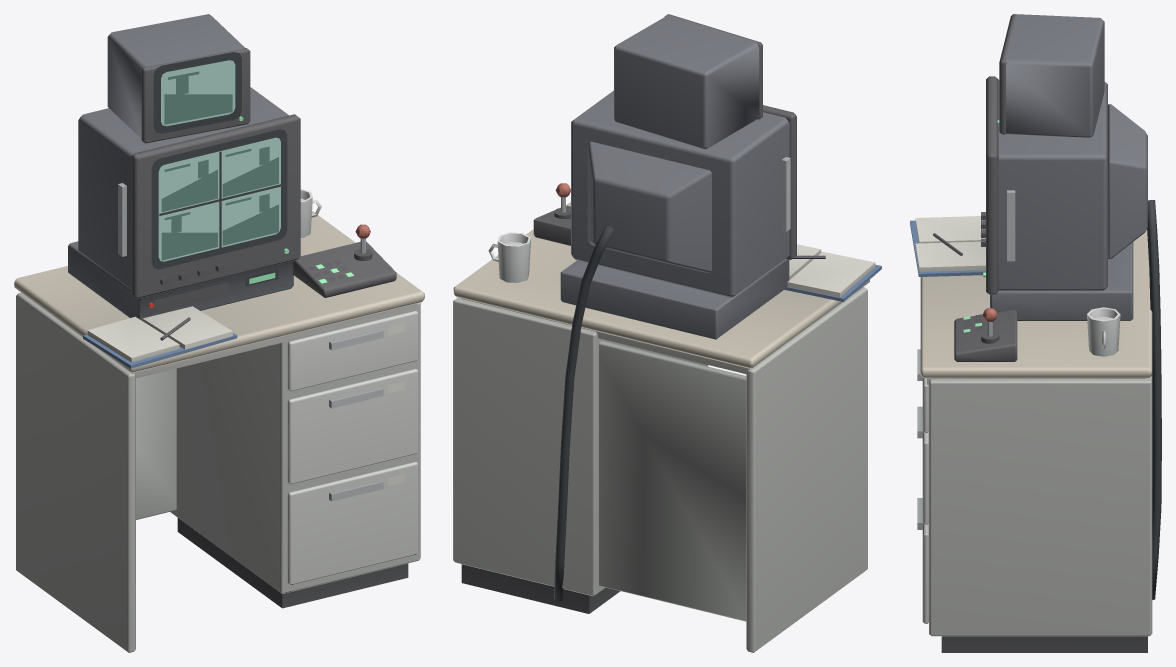
File: cctv.glb
The picture shows the model from 3 angles, left to right: view 1: azimuth 30°, elevation 25°; view 2: azimuth 150°, elevation 25°; view 3: azimuth 270°, elevation 25°; orthographic projection. The views are drawn at different scales.
Visible parts, largest first — view 1: funhouse_cctv; view 2: funhouse_cctv; view 3: funhouse_cctv.
Boxes of the visible parts, <box> form: funhouse_cctv: <box>14,14,424,652</box>; funhouse_cctv: <box>453,14,881,652</box>; funhouse_cctv: <box>910,14,1161,652</box>.
Size of the model in its own units: 0.8266 by 1.39 by 0.5985.
